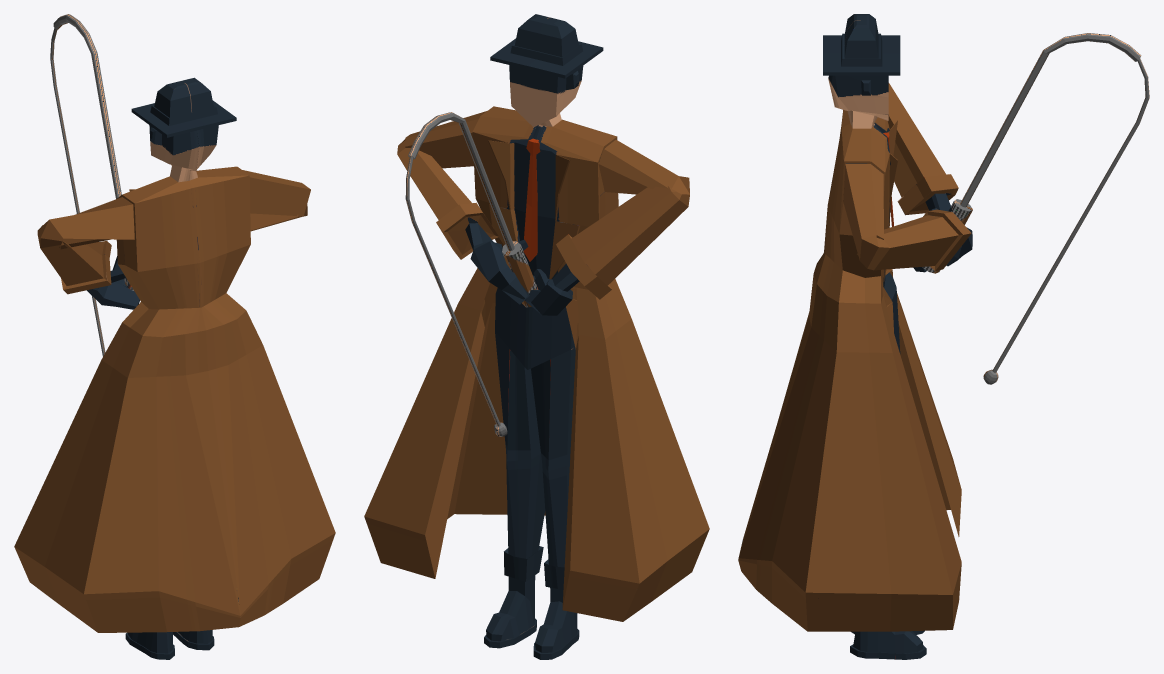
Rendered from phishingguy.fbx.
3 renders of one model, left to right at view 1: azimuth 30°, elevation 25°; view 2: azimuth 150°, elevation 25°; view 3: azimuth 270°, elevation 25°, orthographic. The views are drawn at different scales.
Parts seen in each view (by area): view 1: phishingguy; view 2: phishingguy; view 3: phishingguy.
Boxes of the visible parts, x1=… form: phishingguy: x1=14, y1=14, x2=335, y2=659; phishingguy: x1=364, y1=14, x2=709, y2=659; phishingguy: x1=738, y1=14, x2=1149, y2=659.
Bounding box in the file's own units: 185 × 374 × 225.
